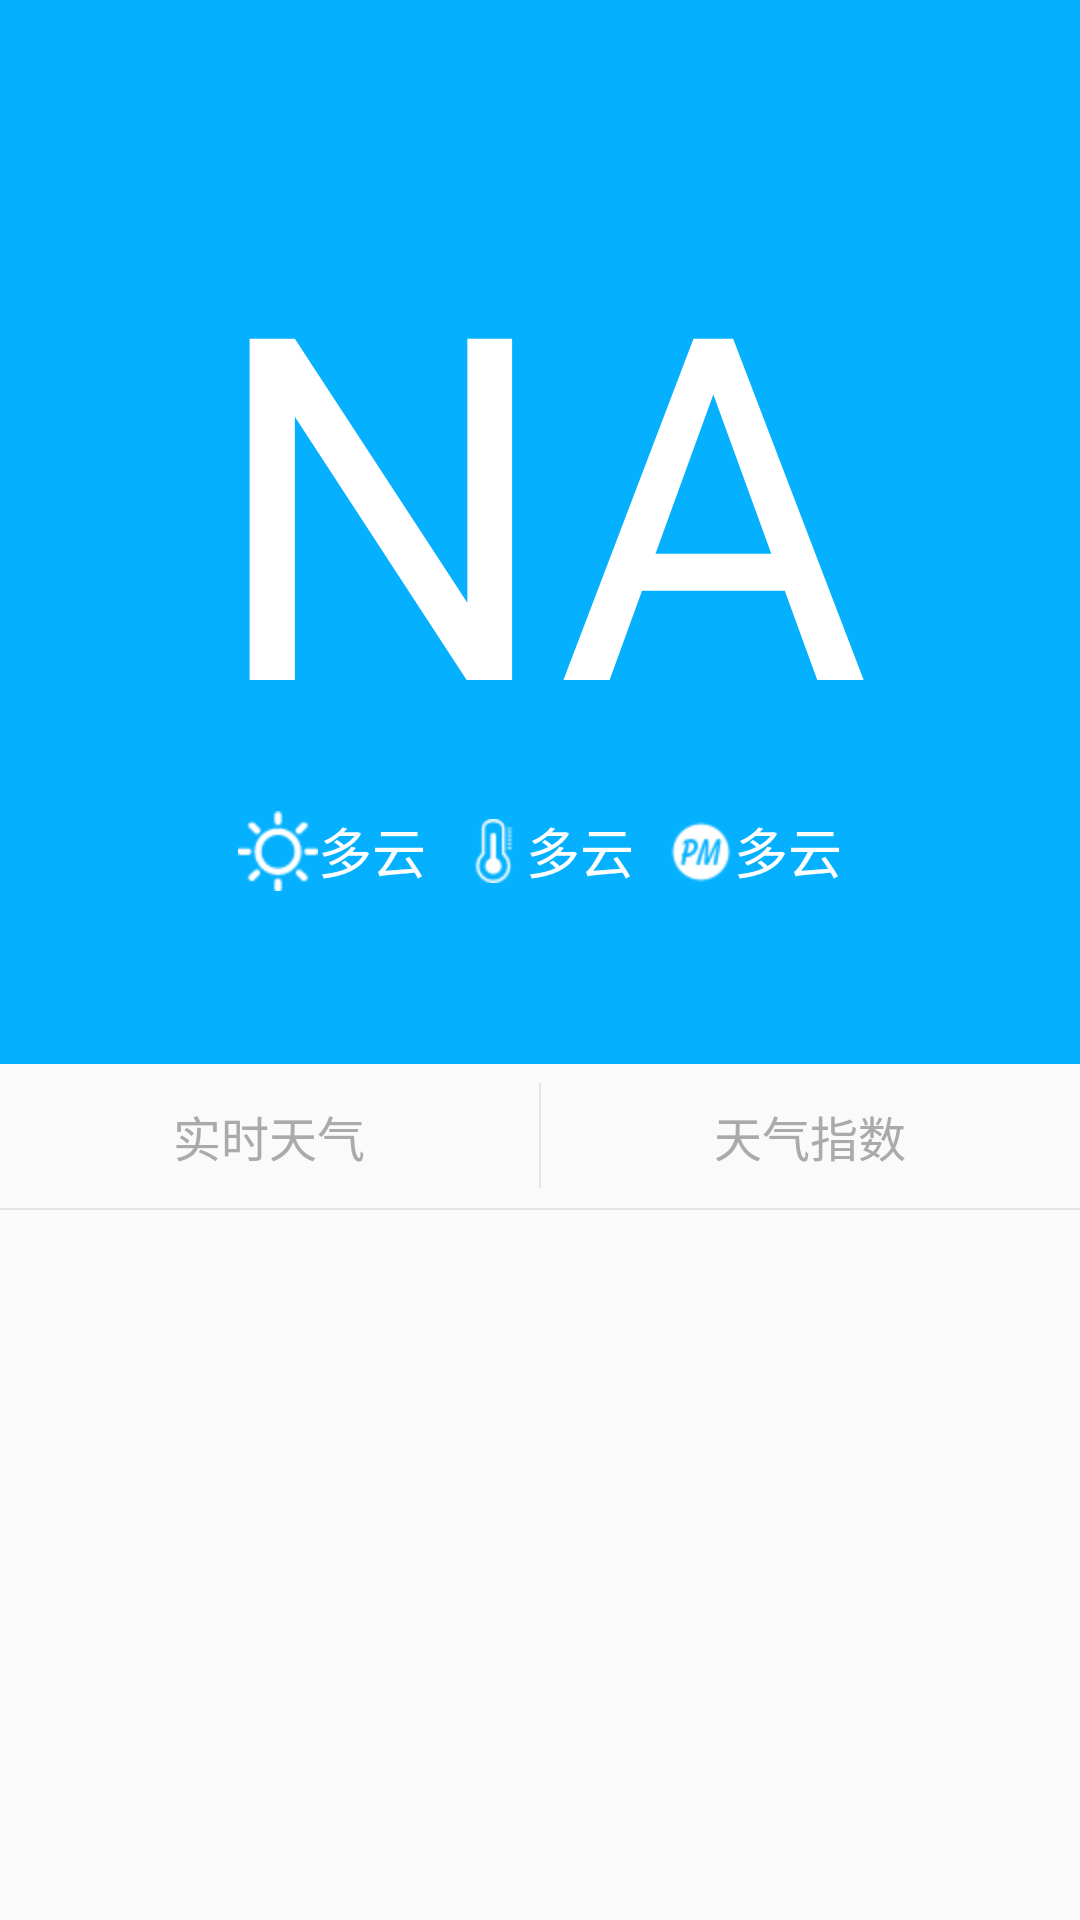

Screen size 1080*1920. Icon name, then its box in pixels as (x1, y1, x2, y2):
sun: (238, 811, 318, 891)
temper: (475, 819, 513, 883)
